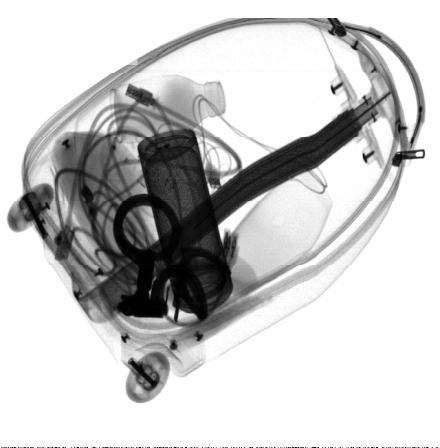HandCuffs: (110, 191, 232, 320)
